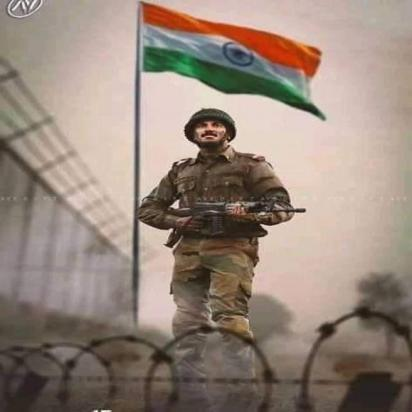Gun: (160, 198, 308, 249)
